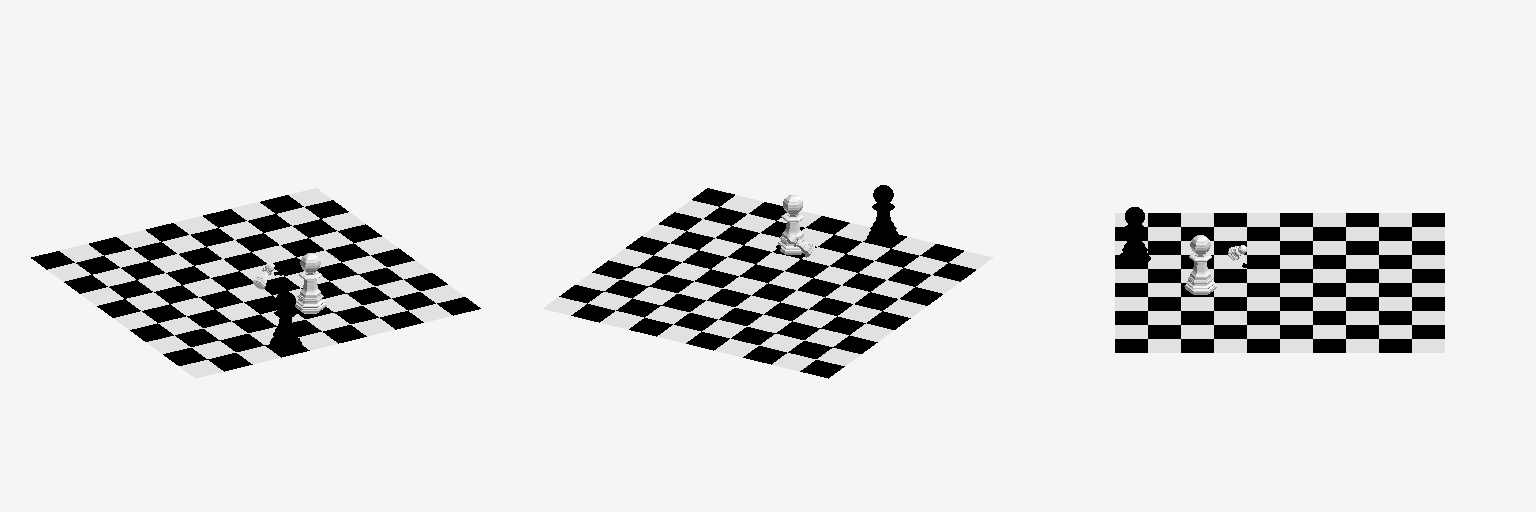
3 views of the same model, side by side, from view 1: azimuth 30°, elevation 25°; view 2: azimuth 150°, elevation 25°; view 3: azimuth 270°, elevation 25° (orthographic).
Parts seen in each view (by area): view 1: 平面; view 2: 平面; view 3: 平面.
Part boxes in pixels (x1,y1,x2,y2): 平面: (31, 188, 480, 378); 平面: (543, 185, 992, 378); 平面: (1115, 207, 1444, 352).
Bounding box in the file's own units: 3539 × 648 × 3539.
1 materials, 1 textured.